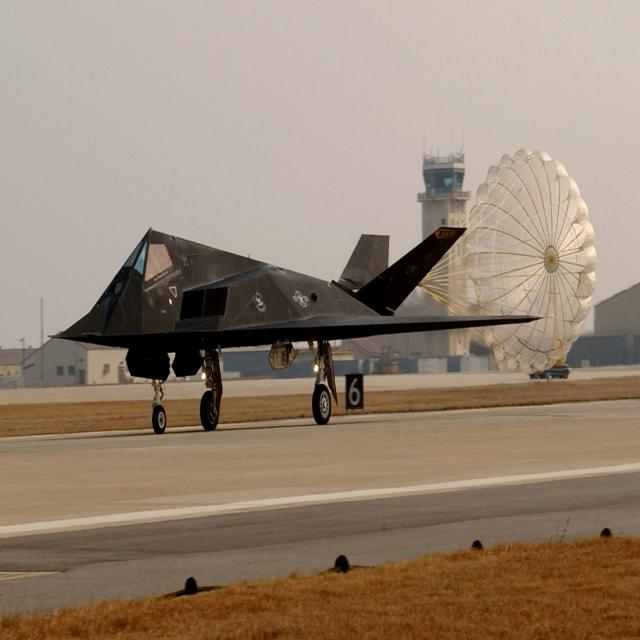MIL_Plane: (47, 226, 544, 434)
